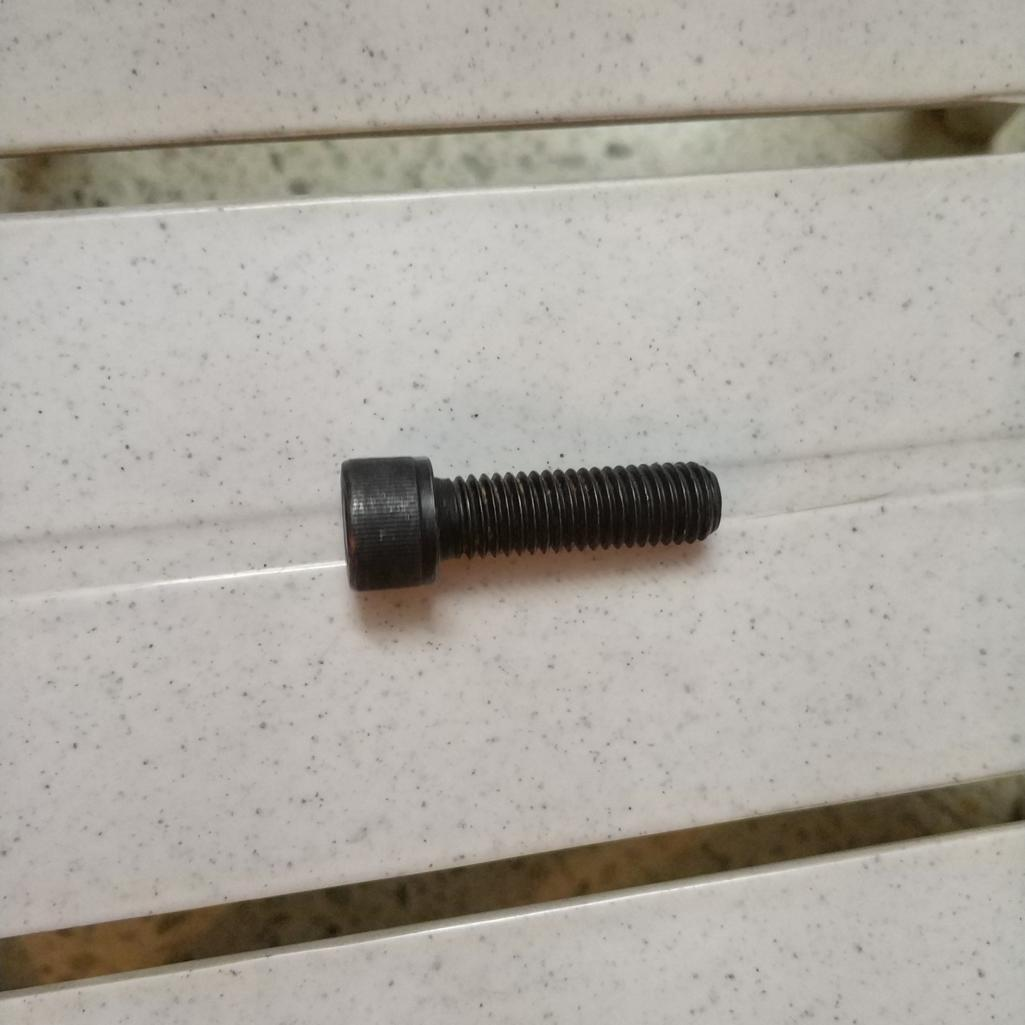screwtype1black: (330, 443, 729, 593)
